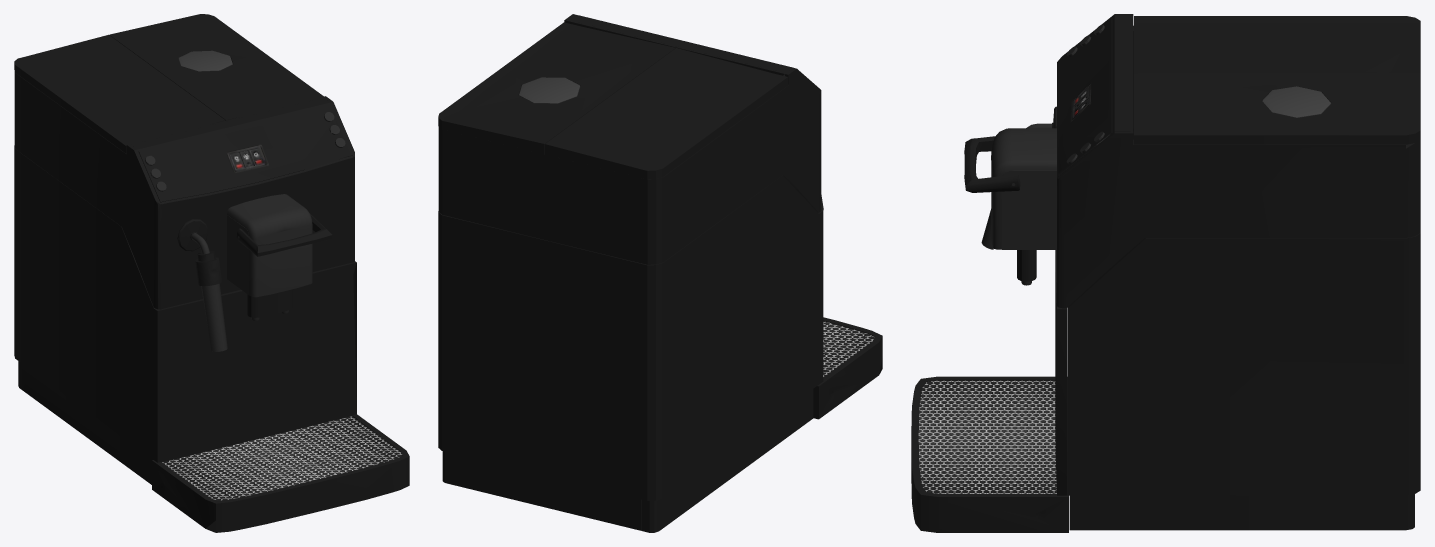
File: Machine coffee.FBX
The picture shows the model from 3 angles, left to right: view 1: azimuth 30°, elevation 25°; view 2: azimuth 150°, elevation 25°; view 3: azimuth 270°, elevation 25°; orthographic projection. The views are drawn at different scales.
Visible parts, largest first — view 1: machine coffee; view 2: machine coffee; view 3: machine coffee.
Part boxes in pixels (<box>): machine coffee: <box>14,14,409,532</box>; machine coffee: <box>438,14,882,532</box>; machine coffee: <box>911,14,1420,532</box>.
Bounding box in the file's own units: 21.36 × 33.2 × 38.24.
Materials: 2 (1 with a texture image).
